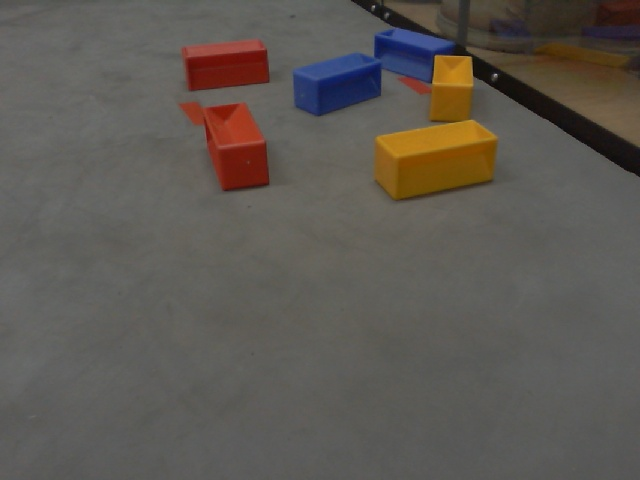BlueSample: (290, 51, 387, 117), (372, 24, 457, 87)
RedSample: (195, 97, 275, 193), (178, 39, 273, 90)
YellowSample: (371, 118, 499, 201), (428, 53, 476, 123)
